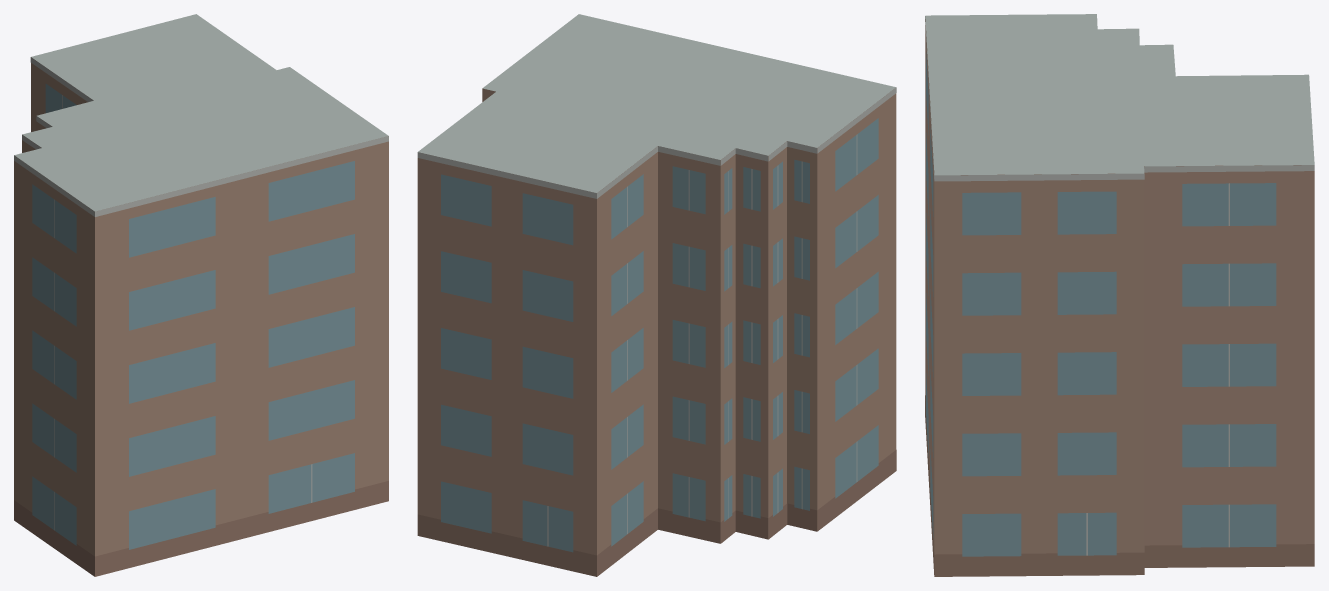
Rendered from survey-upis-32662007.glb.
3 renders of one model, left to right at view 1: azimuth 30°, elevation 25°; view 2: azimuth 150°, elevation 25°; view 3: azimuth 270°, elevation 25°, orthographic. The views are drawn at different scales.
Parts seen in each view (by area): view 1: survey-upis-32662007.tmp; view 2: survey-upis-32662007.tmp; view 3: survey-upis-32662007.tmp.
Boxes of the visible parts, left/top/right/bottom form: survey-upis-32662007.tmp: left=14, top=14, right=388, bottom=576; survey-upis-32662007.tmp: left=417, top=14, right=896, bottom=576; survey-upis-32662007.tmp: left=925, top=14, right=1314, bottom=576.
Bounding box in the file's own units: 13.8 × 16 × 14.08.
